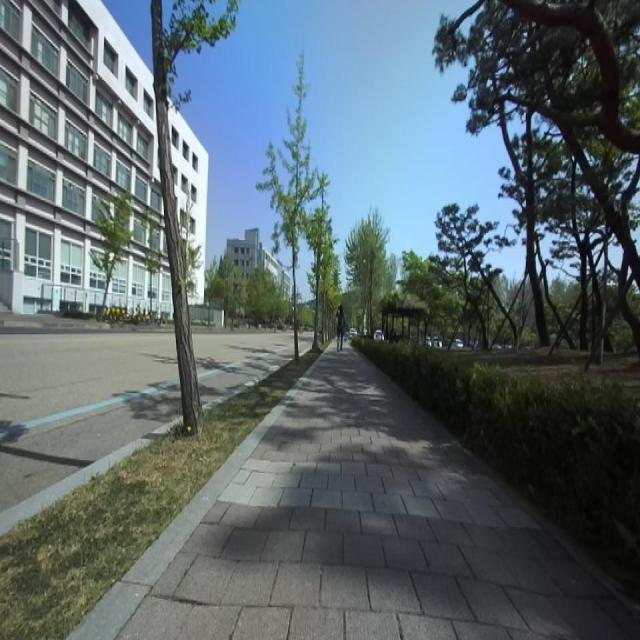sidewalk: (70, 346, 640, 640)
